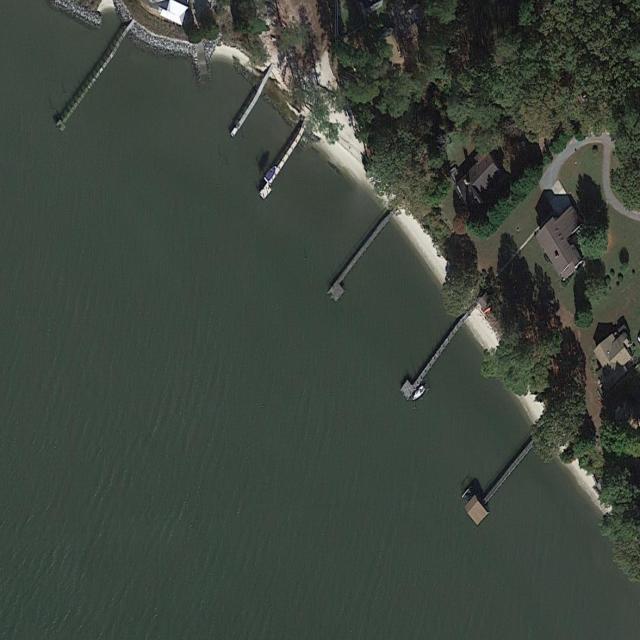ship: (411, 382, 428, 404), (263, 164, 279, 184)
